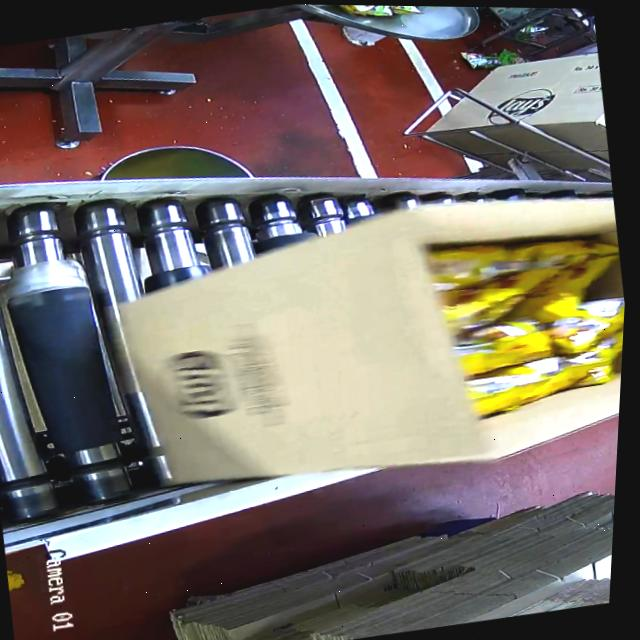SALTED: (417, 215, 629, 416)
